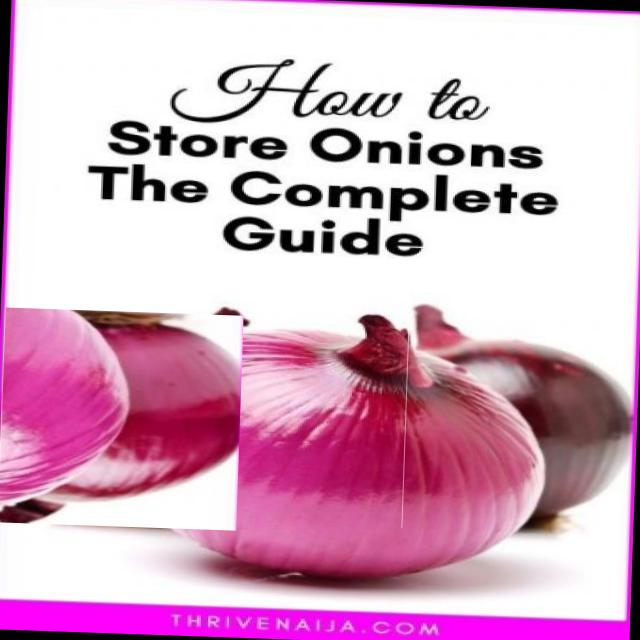Onion: (111, 301, 570, 603), (401, 301, 634, 536), (0, 306, 243, 530)
